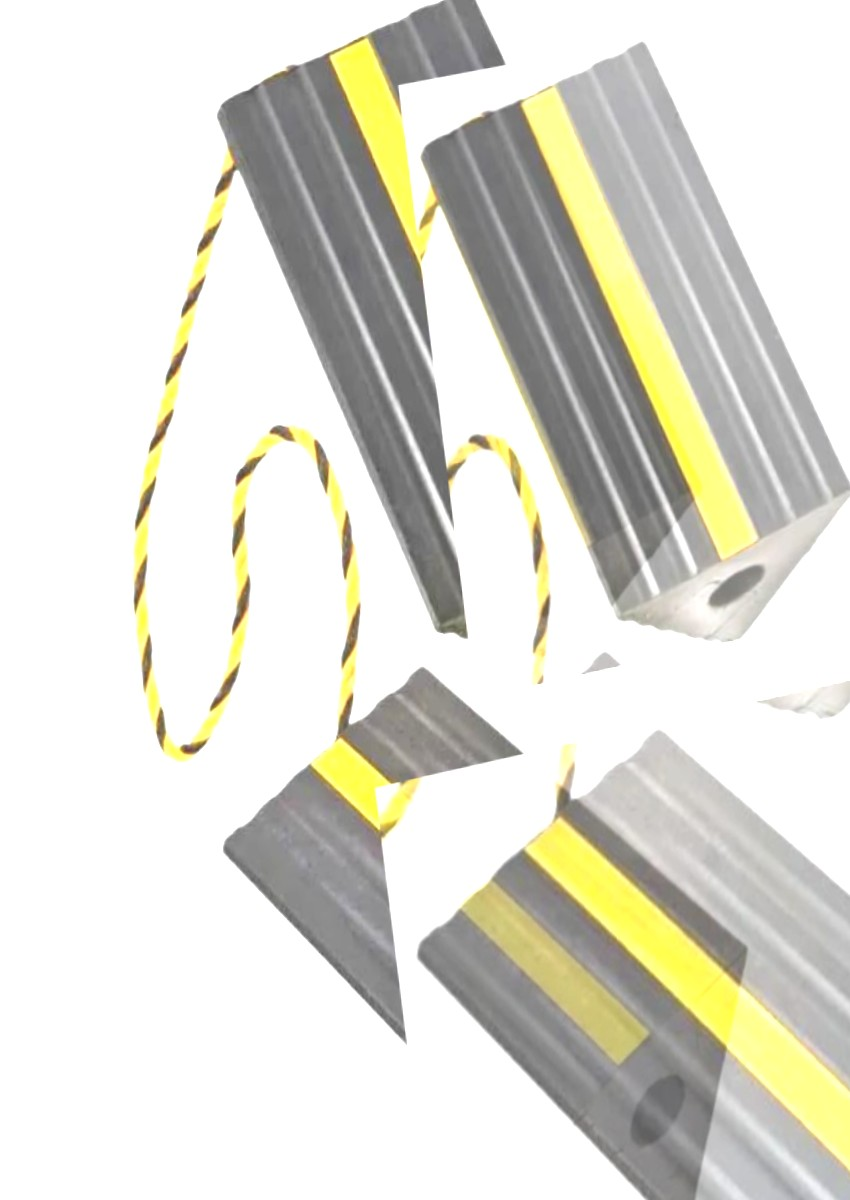chock: (191, 0, 729, 726), (188, 592, 791, 1200), (397, 5, 850, 705), (373, 639, 850, 1200)
